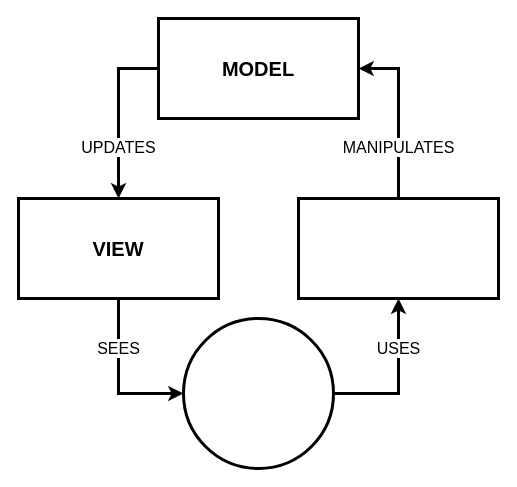
The diagram is 517 pixels wide and 487 high, and some of its shapes have lost their labels. Each missing label, with the box of its shape:
CONTROLLER: (296, 196, 500, 300)
USER: (182, 316, 334, 470)
